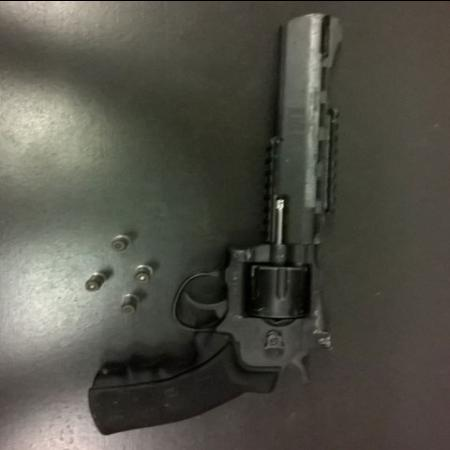Pistol: (82, 6, 358, 436)
